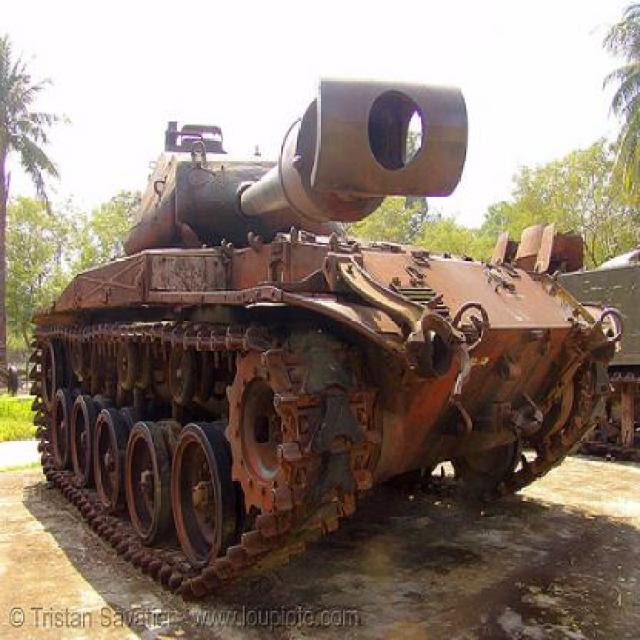corrosion: (34, 69, 626, 608)
